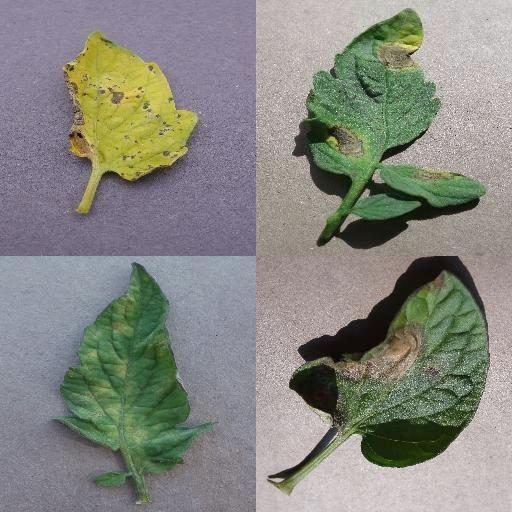Early Blight: (300, 6, 440, 172)
Late Blight: (287, 267, 491, 469)
Leaf Mold: (54, 261, 220, 477)
Septoria: (62, 27, 200, 181)
